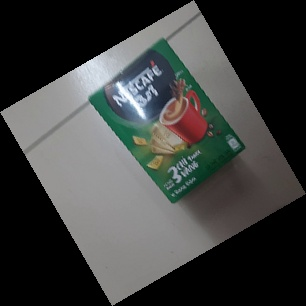Nes Rang: (87, 38, 246, 204)
